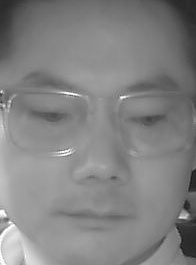eye: (29, 105, 68, 126), (126, 109, 165, 129)
glass: (3, 85, 93, 157), (112, 89, 190, 158)
mouth: (57, 199, 131, 239)
